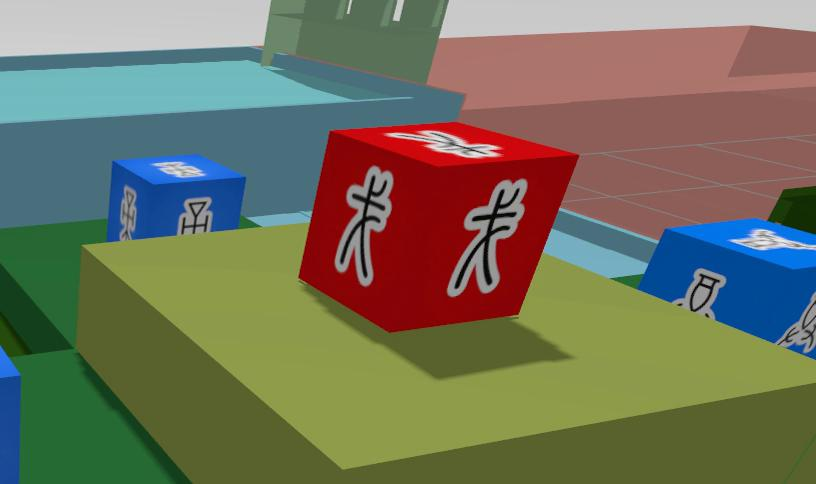KFS_FAKE: (300, 122, 577, 331), (447, 180, 526, 296), (334, 166, 392, 285), (387, 131, 501, 157)
KFS_REAL: (638, 219, 815, 355), (107, 154, 245, 240), (0, 348, 20, 484), (673, 269, 724, 318), (732, 228, 815, 250), (178, 199, 213, 234), (155, 162, 204, 176)
